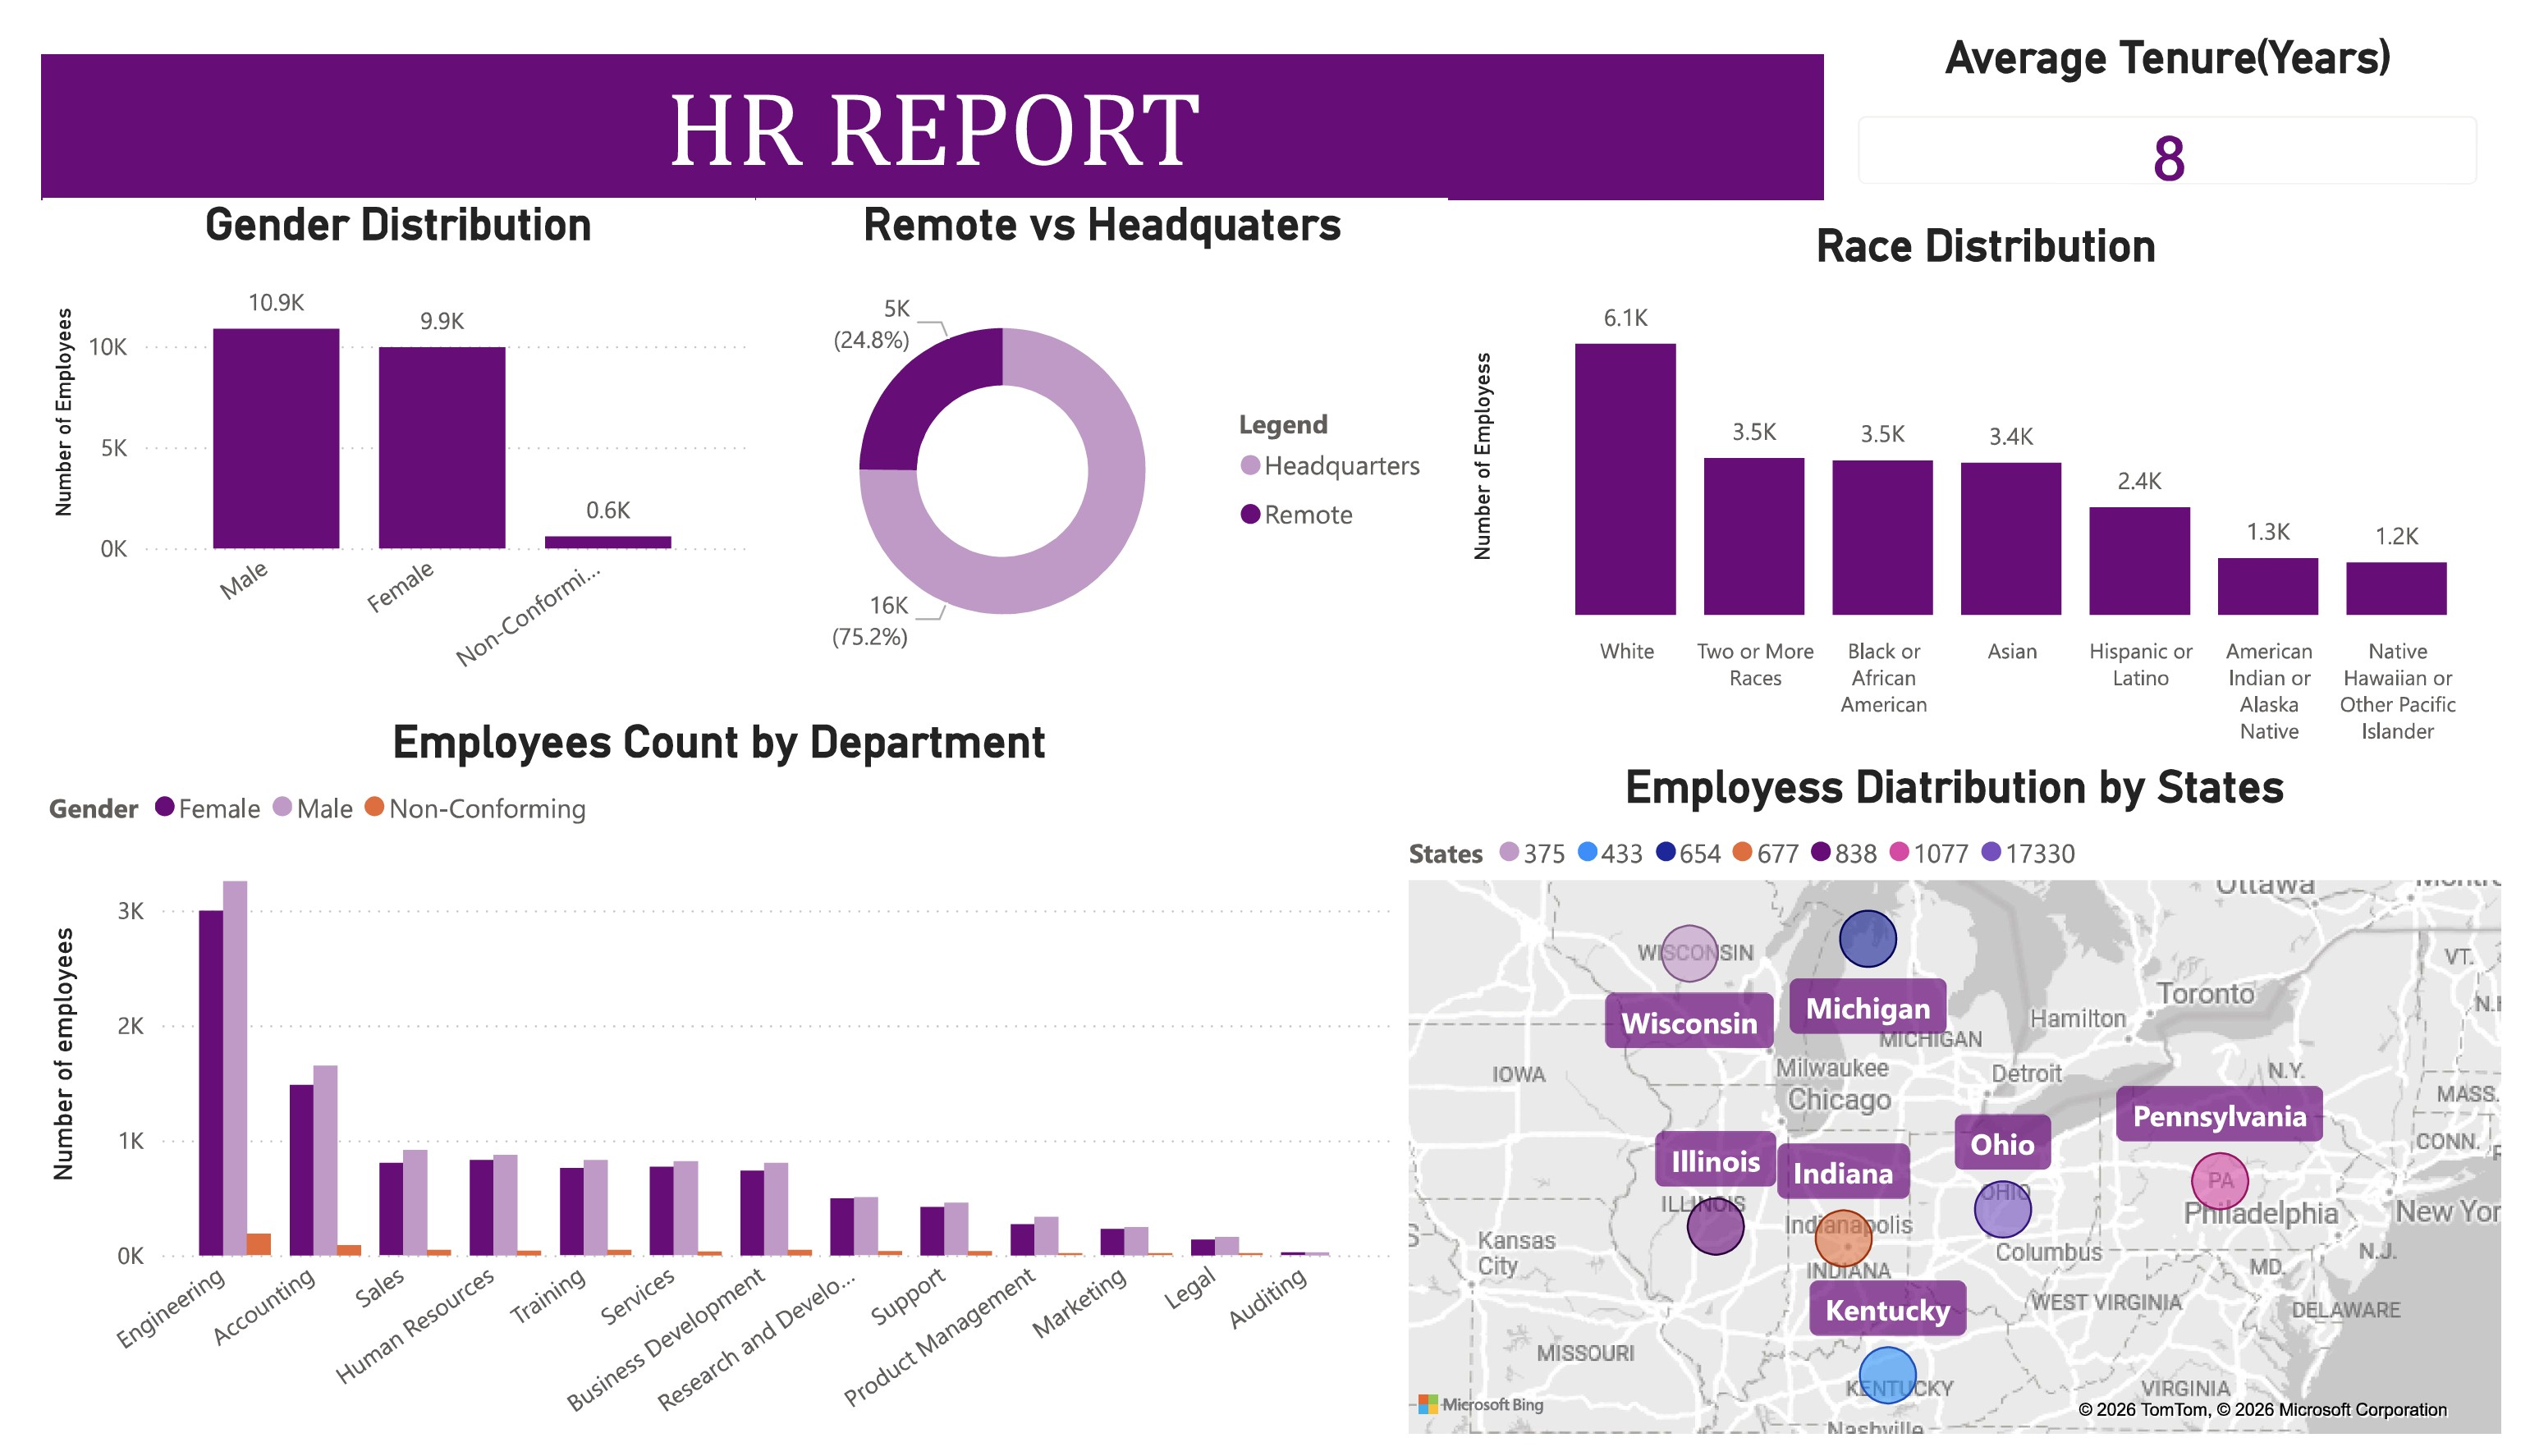

The dashboard page shown, as its layout file describes it:
{"tool":"powerbi","page":{"name":"Page 1","canvas":[1280,720],"ordinal":0},"visuals":[{"type":"textbox","box":[9.9,11.7,911.2,74.2],"z":0},{"type":"cardVisual","title":"Average Tenure(Years)","fields":{"Data":["Sum(average tenure.Column1)"]},"box":[920,0,350,96.2],"z":1000},{"type":"columnChart","title":"Gender Distribution","fields":{"Category":["gender.Column1"],"Y":["Sum(gender.Column2)"]},"box":[10.8,85.4,363.1,252.3],"z":2000},{"type":"clusteredColumnChart","title":"Employees Count by Department","fields":{"Category":["gender - department jobtitle.Column1"],"Series":["gender - department jobtitle.Column3"],"Y":["Sum(gender - department jobtitle.Column4)"]},"box":[9.5,349,693.2,371.1],"z":3000},{"type":"donutChart","title":"Remote vs Headquaters","fields":{"Category":["remote vs headquaters.Column1"],"Y":["Sum(remote vs headquaters.Column2)"]},"box":[374.6,85.4,353.8,252.3],"z":4000},{"type":"map","title":"Employess Diatribution by States","fields":{"Category":["state distribution.Column1"],"Series":["state distribution.Column2"]},"box":[703.3,371.7,566.7,348.3],"z":5000},{"type":"columnChart","title":"Race Distribution","fields":{"Category":["race distribution.Column1"],"Y":["Sum(race distribution.Column2)"]},"box":[735.4,96.2,534.6,275.4],"z":6000}]}

Visuals, with their boxes in screenshot pixels (x1, y1, x2, y2), scaled from the page's 1280x720 canvas onto the 2530x1456 screenshot:
textbox: rect(20, 24, 1821, 174)
"Average Tenure(Years)" cardVisual: rect(1818, 0, 2510, 195)
"Gender Distribution" columnChart: rect(21, 172, 739, 683)
"Employees Count by Department" clusteredColumnChart: rect(19, 706, 1389, 1455)
"Remote vs Headquaters" donutChart: rect(740, 172, 1440, 683)
"Employess Diatribution by States" map: rect(1390, 752, 2510, 1455)
"Race Distribution" columnChart: rect(1454, 195, 2510, 752)
